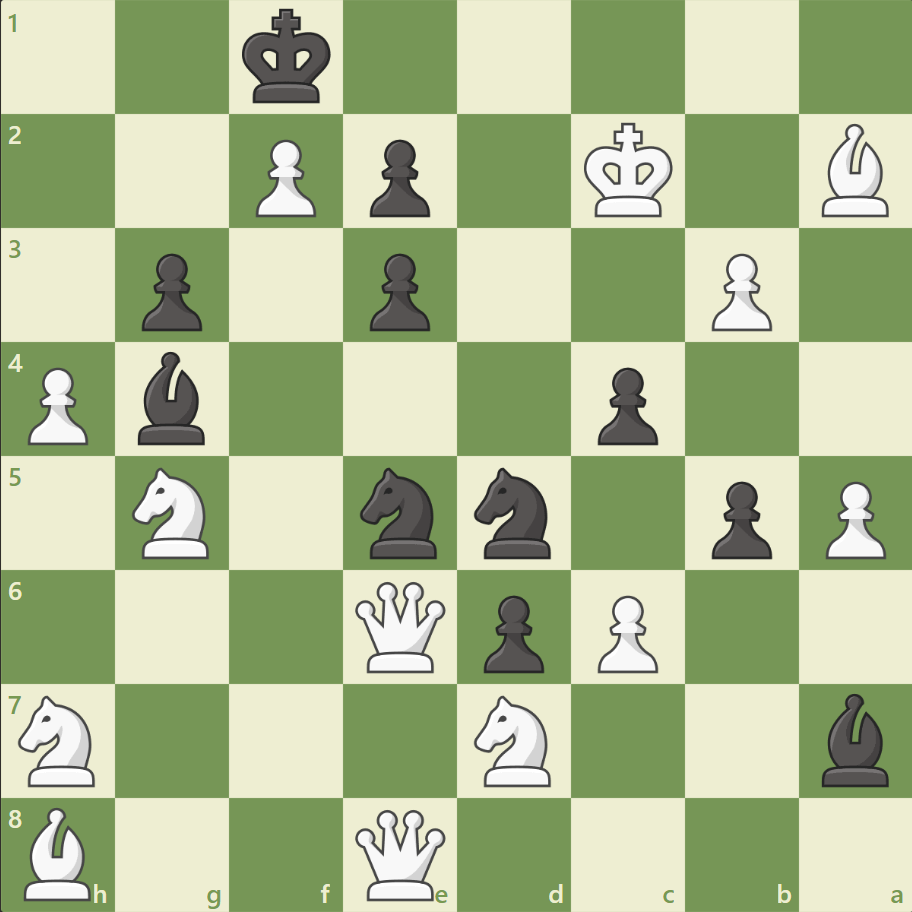B: (17, 801, 101, 904), (812, 120, 896, 222)
K: (579, 117, 679, 225)
N: (124, 461, 222, 564), (465, 688, 562, 791), (11, 688, 108, 791)
P: (20, 359, 95, 450), (701, 246, 776, 337), (247, 132, 322, 223), (588, 586, 662, 677), (815, 473, 889, 564)
Q: (351, 576, 450, 676), (351, 804, 450, 903)
b: (812, 687, 896, 790), (131, 347, 215, 449)
k: (238, 4, 338, 112)
n: (351, 461, 449, 564), (465, 461, 562, 564)
p: (474, 586, 549, 677), (701, 473, 776, 564), (133, 246, 208, 337), (588, 359, 662, 450), (361, 246, 435, 337), (361, 132, 435, 223)
